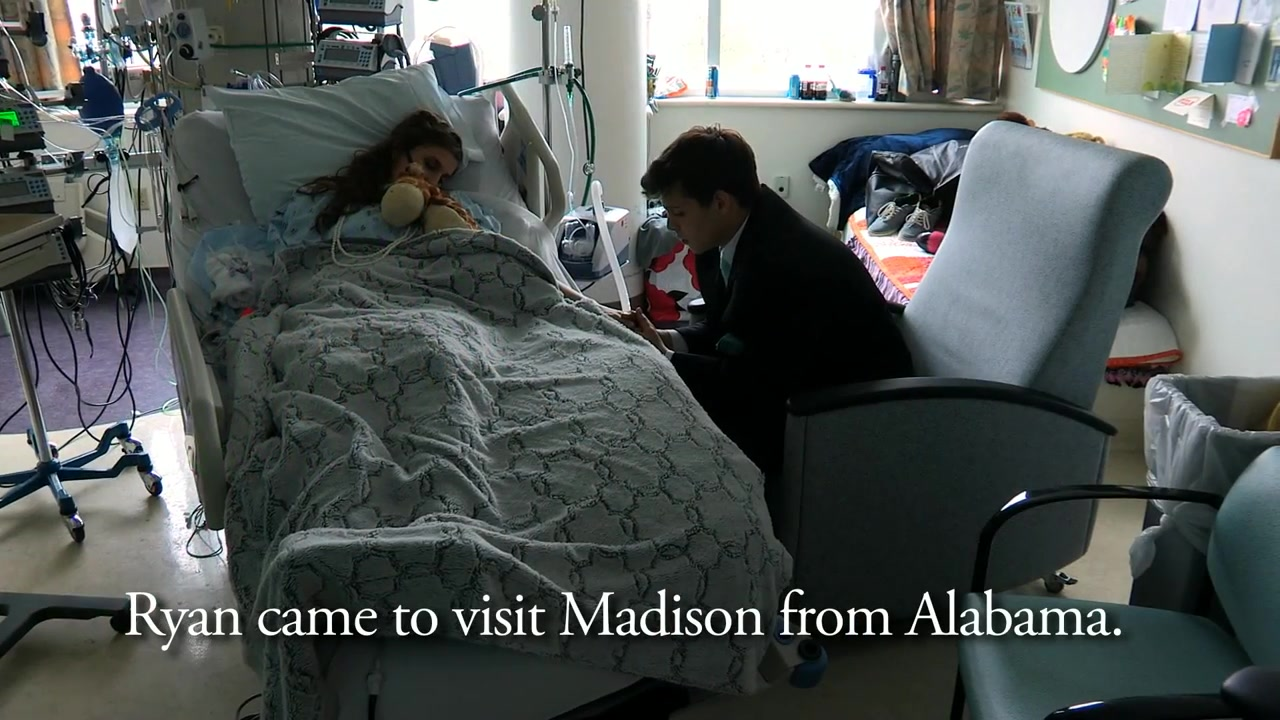bedrail: (155, 283, 239, 538), (469, 71, 568, 242)
breathing_tube: (449, 182, 632, 317)
chair: (951, 441, 1280, 720)
hospital_bed: (151, 59, 786, 719)
iv_pole: (527, 1, 569, 160)
patient: (274, 106, 508, 539)
sofa: (769, 118, 1178, 630)
syringe_pump: (312, 37, 385, 80)
visitor: (626, 124, 916, 476)
waste_bin: (1141, 373, 1280, 576)
